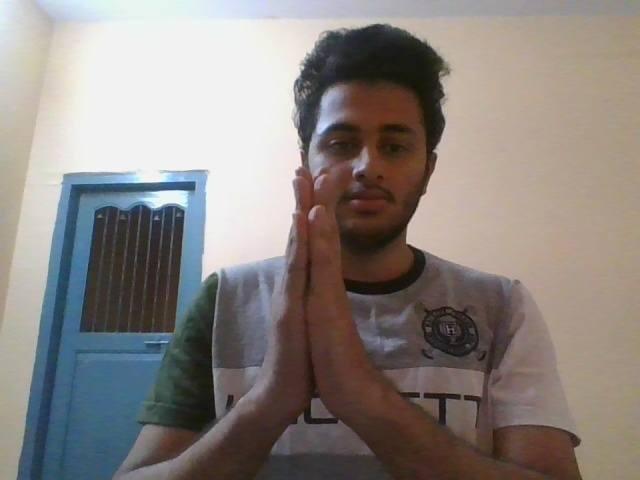Namaskara: (256, 164, 372, 429)
